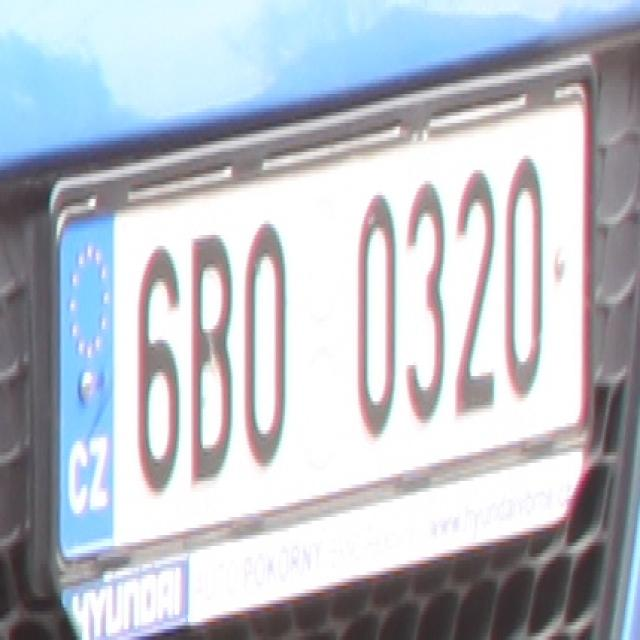0: (239, 210, 291, 466), (352, 185, 398, 438), (502, 148, 544, 398)
2: (452, 163, 495, 412)
3: (403, 174, 446, 426)
6: (134, 235, 180, 492)
B: (186, 224, 232, 488)
